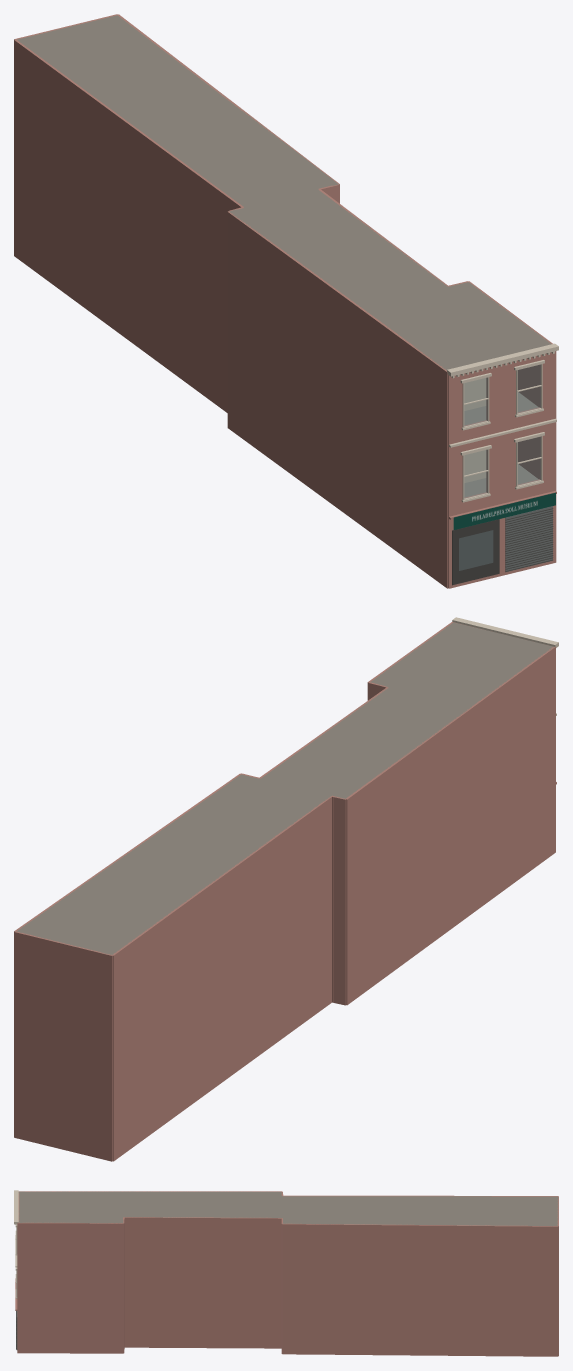
The picture shows the model from 3 angles, top to bottom: view 1: azimuth 30°, elevation 25°; view 2: azimuth 150°, elevation 25°; view 3: azimuth 270°, elevation 25°; orthographic projection. The views are drawn at different scales.
Parts seen in each view (by area): view 1: Shell, Roof, Facade floor 1, Facade floor 2, Facade floor 0, Sign, Floor 1, Floor 2, Cornice; view 2: Shell, Roof, Cornice; view 3: Shell, Roof.
Part boxes in pixels (x1,y1,x2,y2): Shell: [14, 14, 556, 588]; Roof: [17, 15, 551, 370]; Facade floor 1: [448, 418, 556, 516]; Facade floor 2: [448, 351, 555, 444]; Facade floor 0: [448, 491, 556, 588]; Sign: [453, 492, 555, 529]; Floor 1: [464, 450, 538, 497]; Floor 2: [464, 378, 538, 425]; Cornice: [447, 343, 558, 378]; Shell: [14, 622, 555, 1161]; Roof: [16, 622, 553, 954]; Cornice: [452, 617, 558, 647]; Shell: [17, 1191, 558, 1356]; Roof: [18, 1191, 558, 1226].
Bounding box in the file's own units: 7.35 × 12.69 × 47.74.
8 materials, 1 textured.
